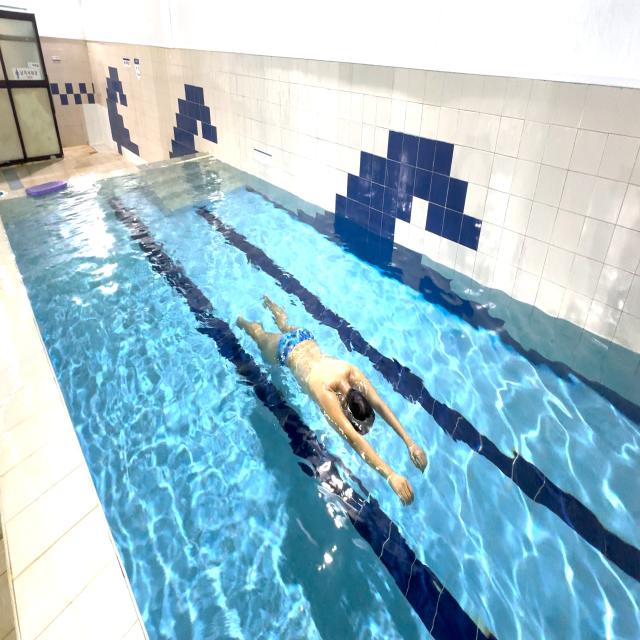Swimming: (228, 273, 435, 523)
